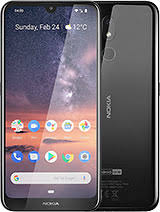nokia: (1, 1, 98, 212)
